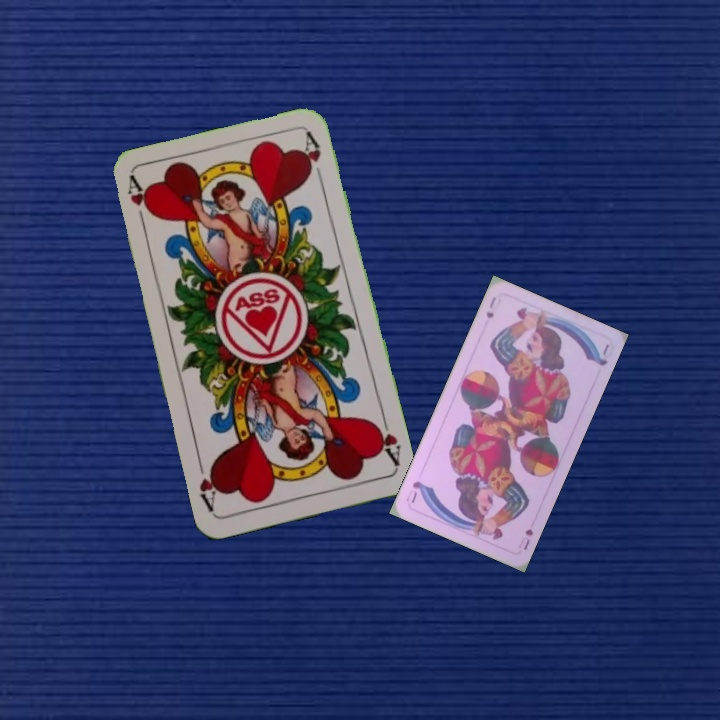HA: (369, 411, 403, 469), (123, 174, 155, 232)
SU: (519, 524, 536, 553), (482, 293, 499, 321)
